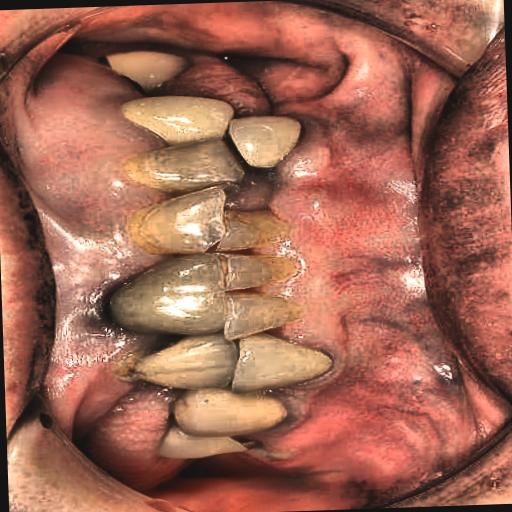Calculus: (103, 182, 297, 338), (126, 139, 236, 175)
